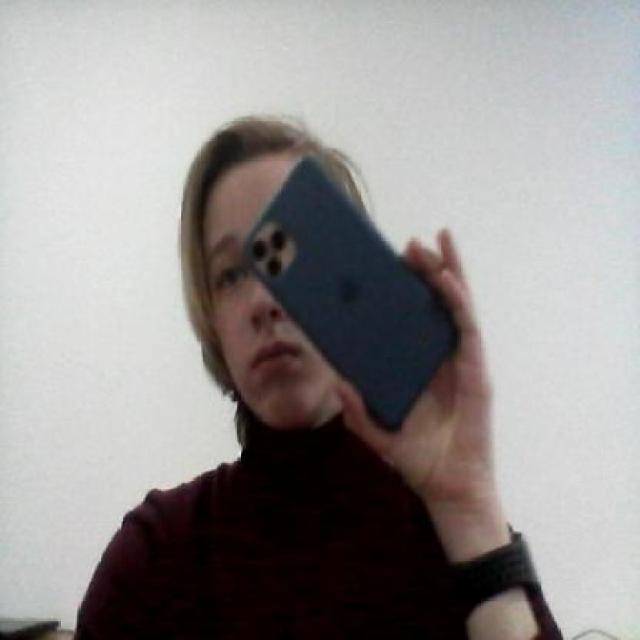lens: (252, 225, 294, 278)
phone: (247, 155, 464, 438)
